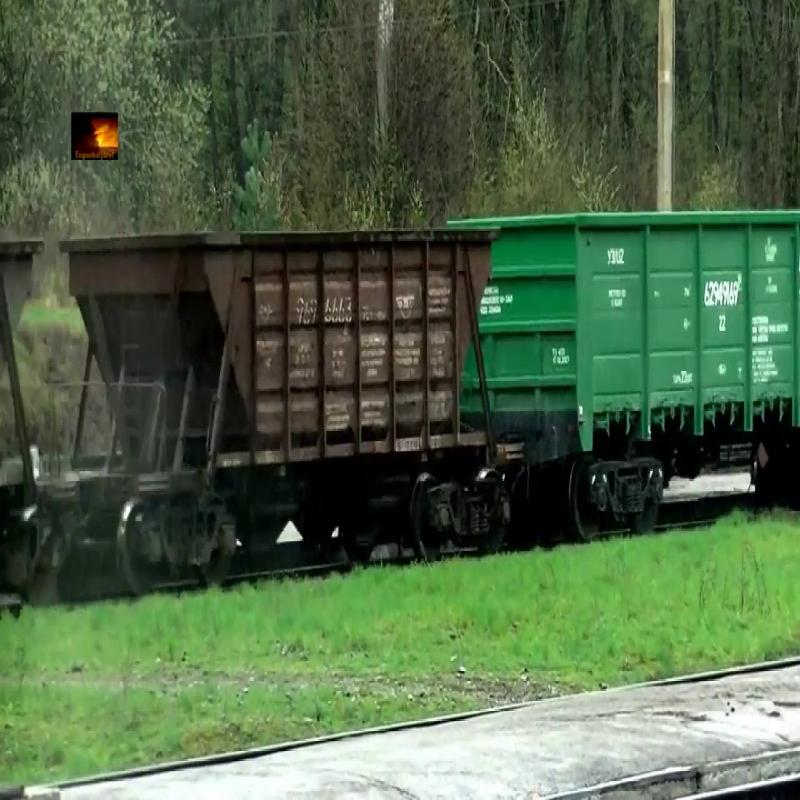train: (55, 232, 495, 481), (463, 210, 800, 475), (1, 235, 49, 397)
